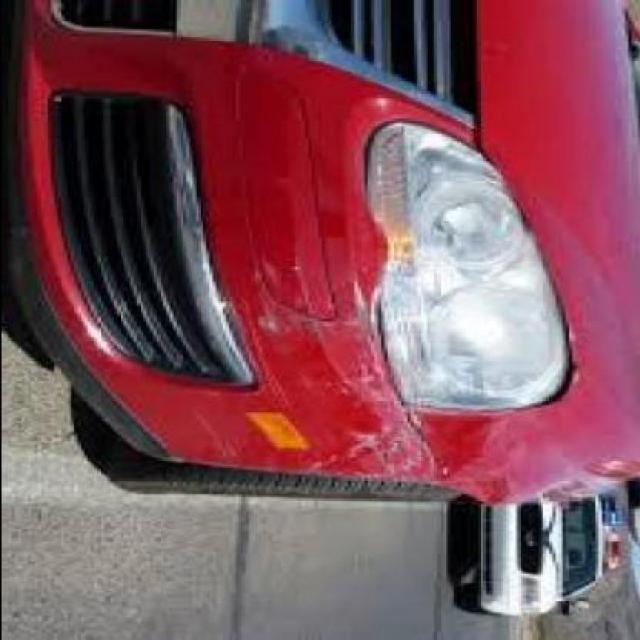damage: (242, 234, 586, 505)
